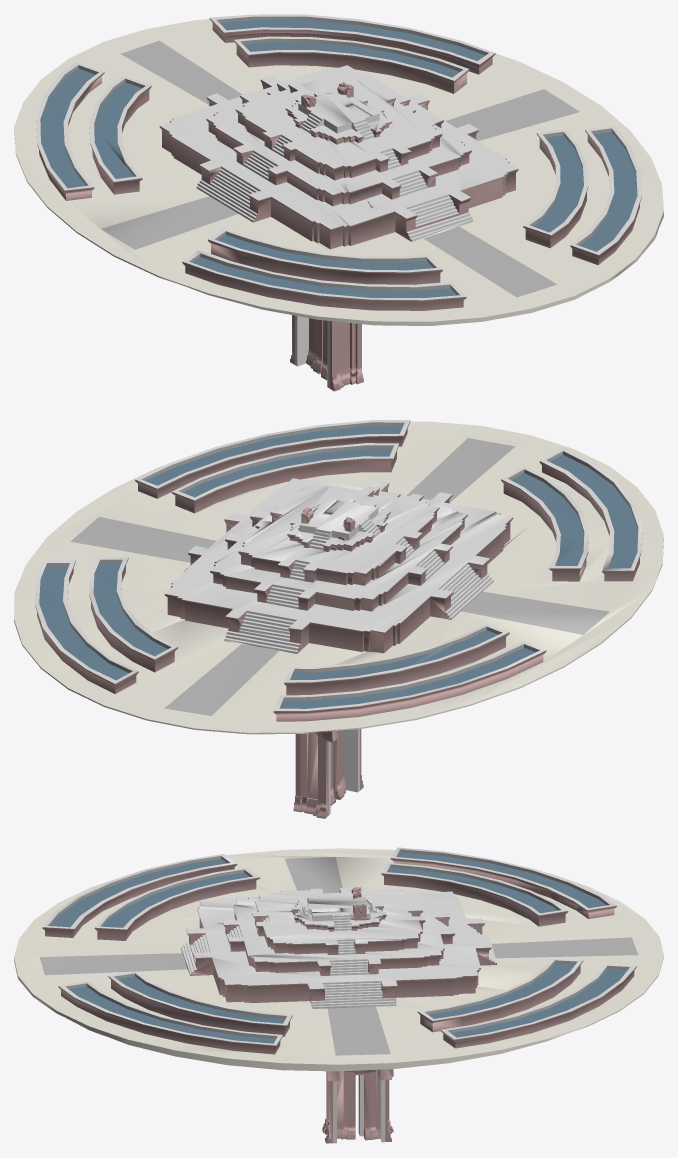
Rendered from monumento.glb.
The picture shows the model from 3 angles, top to bottom: view 1: azimuth 30°, elevation 25°; view 2: azimuth 150°, elevation 25°; view 3: azimuth 270°, elevation 25°; orthographic projection. The views are drawn at different scales.
Parts seen in each view (by area): view 1: Polygon, Polygon_102, Polygon_104, Polygon_103, Polygon_105; view 2: Polygon, Polygon_103, Polygon_105, Polygon_104, Polygon_102; view 3: Polygon, Polygon_104, Polygon_103, Polygon_105, Polygon_102.
Boxes of the visible parts, box(x1,y1,x2,y2) form: Polygon: box(14, 14, 663, 325); Polygon_102: box(321, 82, 363, 384); Polygon_104: box(301, 94, 349, 391); Polygon_103: box(290, 95, 316, 366); Polygon_105: box(306, 84, 353, 374); Polygon: box(14, 420, 663, 734); Polygon_103: box(304, 517, 351, 818); Polygon_105: box(293, 507, 335, 812); Polygon_104: box(343, 519, 363, 792); Polygon_102: box(301, 510, 346, 799); Polygon: box(14, 847, 663, 1071); Polygon_104: box(322, 887, 361, 1139); Polygon_103: box(353, 888, 393, 1140); Polygon_105: box(353, 905, 393, 1142); Polygon_102: box(325, 904, 366, 1143).
Size of what is drawn, in the model's own units: 0.1858 by 0.0957 by 0.2358.
